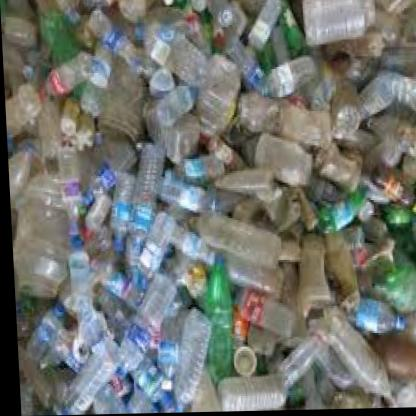Plastic: (117, 145, 169, 238), (126, 274, 182, 350), (200, 258, 236, 372), (168, 318, 209, 407), (64, 344, 118, 406), (209, 370, 287, 411), (35, 49, 95, 97), (60, 227, 92, 314), (260, 52, 320, 96), (185, 212, 258, 247), (237, 284, 292, 328), (344, 294, 396, 335), (142, 88, 196, 127)
